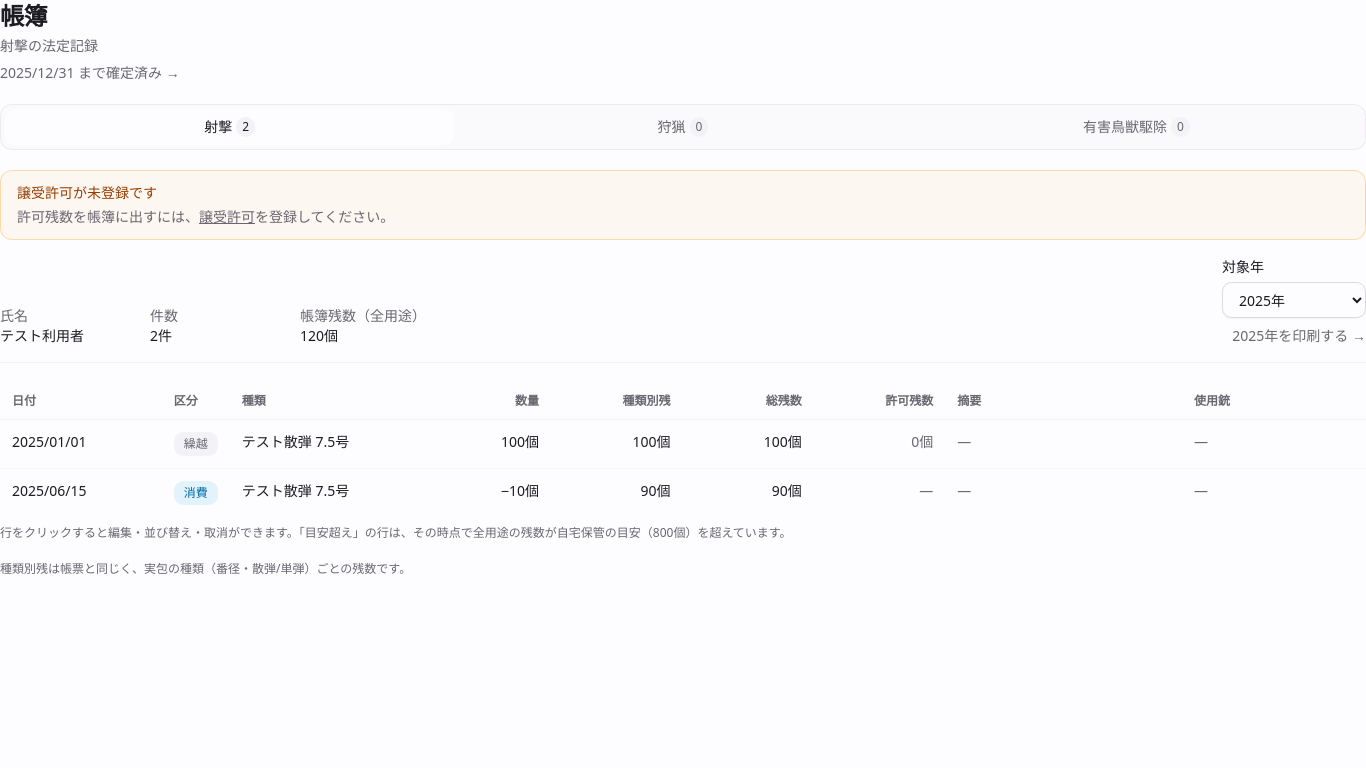
Test: LedgerView › 確定済みの日付を見出しと行のシートに示し、確定・ロックの設定へ案内する
Click the text "2025/06/15" at (49, 490), box [12,481,86,500]
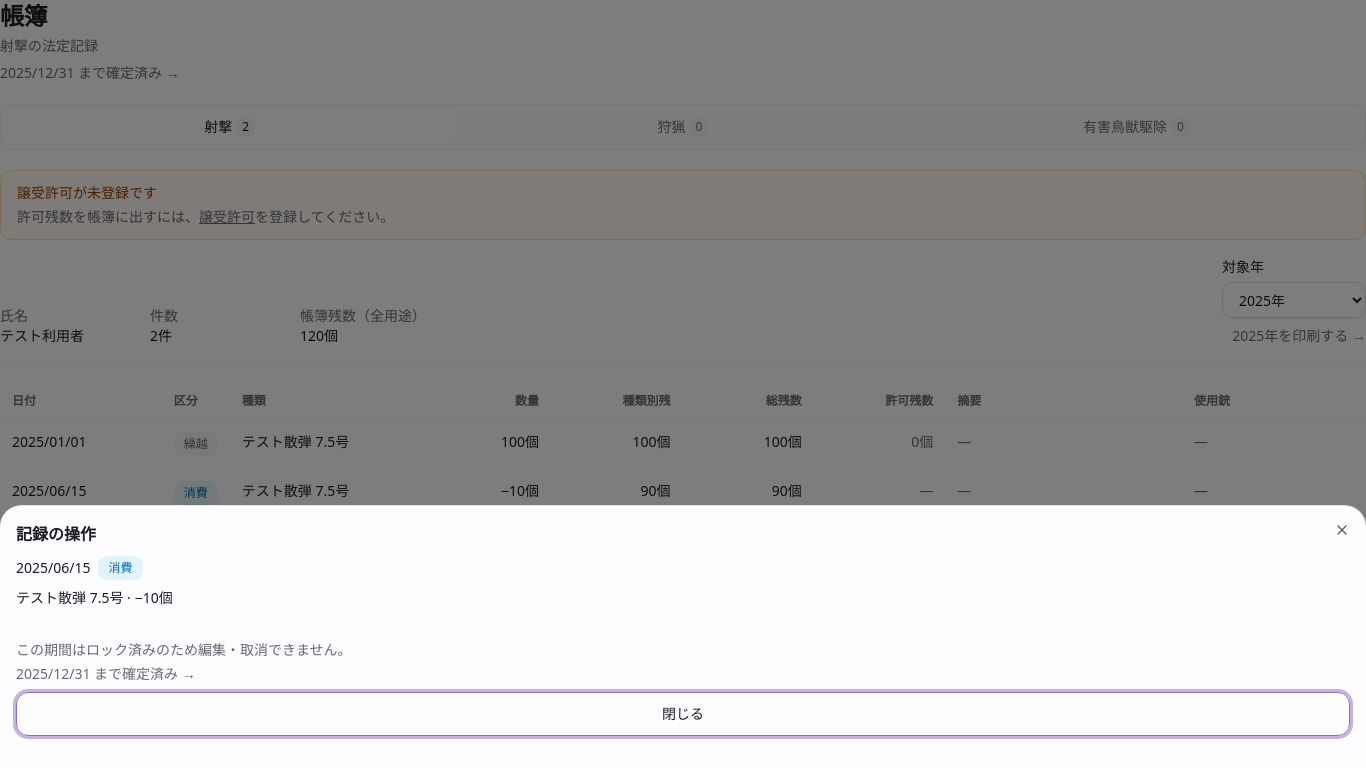
Expected: the dialog shows "この期間はロック済みのため編集・取消できません。", [16,640,352,659]
Expected: the link "2025/12/31 まで確定済み →" is shown, [16,664,196,683]
